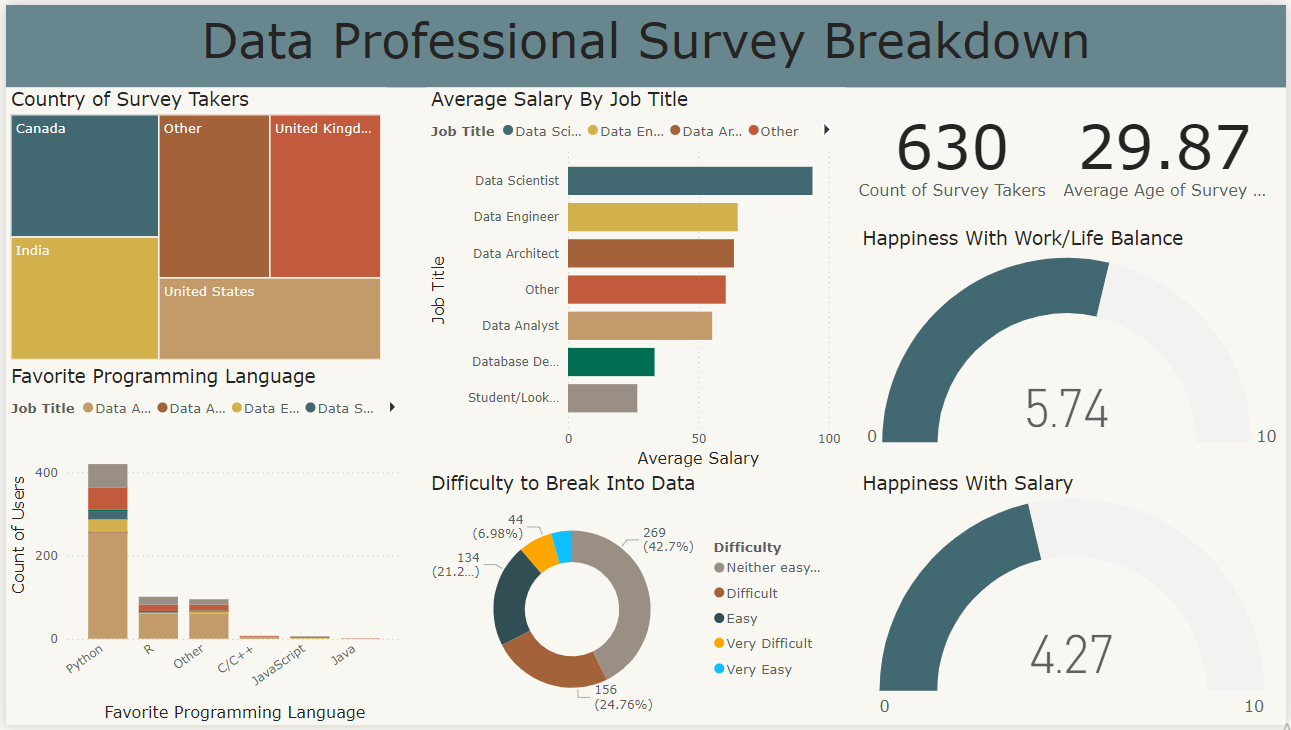

This screenshot's page, from the dashboard's own definition file:
{"tool":"powerbi","page":{"name":"Page 1","canvas":[1280,720],"ordinal":0},"visuals":[{"type":"textbox","box":[0,0,1280.3,82.3],"z":0},{"type":"card","fields":{"Values":["CountNonNull(Data Professional Survey.Unique ID)"]},"box":[839.8,93.3,212.7,108.4],"z":1},{"type":"card","fields":{"Values":["Avg(Data Professional Survey.Q10 - Current Age)"]},"box":[1052.5,93.3,212.7,108.4],"z":2},{"type":"barChart","title":"Average Salary By Job Title","fields":{"Category":["Data Professional Survey.Q1 - Which Title Best Fits your Current Role?.1"],"Y":["Avg(Data Professional Survey.Average Salary.1)"],"Series":["Data Professional Survey.Q1 - Which Title Best Fits your Current Role?.1"]},"box":[419.9,82.3,419.9,384.2],"z":3},{"type":"columnChart","title":"Favorite Programming Language","fields":{"Category":["Data Professional Survey.Q5 - Favorite Programming Language.1"],"Y":["CountNonNull(Data Professional Survey.Unique ID)"],"Series":["Data Professional Survey.Q1 - Which Title Best Fits your Current Role?.1"]},"box":[0,359.5,400.7,360.9],"z":4},{"type":"treemap","title":"Country of Survey Takers","fields":{"Group":["Data Professional Survey.Q11 - Which Country do you live in?.1"],"Values":["Count(Data Professional Survey.Q11 - Which Country do you live in?.1)"]},"box":[0,82.3,380.1,277.2],"z":5},{"type":"gauge","title":"Happiness With Work/Life Balance","fields":{"Y":["Avg(Data Professional Survey.Q6 - How Happy are you in your Current Position with the following? (Work/Life Balance))"],"MinValue":["Min(Data Professional Survey.Q6 - How Happy are you in your Current Position with the following? (Work/Life Balance))"],"MaxValue":["Max(Data Professional Survey.Q6 - How Happy are you in your Current Position with the following? (Work/Life Balance))1"]},"box":[850.8,220.9,429.5,230.5],"z":6},{"type":"gauge","title":"Happiness With Salary","fields":{"Y":["Avg(Data Professional Survey.Q6 - How Happy are you in your Current Position with the following? (Salary))"],"MinValue":["Min(Data Professional Survey.Q6 - How Happy are you in your Current Position with the following? (Salary))"],"MaxValue":["Max(Data Professional Survey.Q6 - How Happy are you in your Current Position with the following? (Salary))"]},"box":[850.8,466.6,429.5,253.9],"z":7},{"type":"donutChart","title":"Difficulty to Break Into Data","fields":{"Y":["CountNonNull(Data Professional Survey.Q7 - How difficult was it for you to break into Data?)"],"Category":["Data Professional Survey.Q7 - How difficult was it for you to break into Data?"]},"box":[419.9,466.6,414.4,253.9],"z":8}]}

Visuals, with their boxes in screenshot pixels (x1, y1, x2, y2), scaled from the page's 1280x720 canvas onto the 1291x730 screenshot:
textbox: <region>0, 0, 1290, 83</region>
card - CountNonNull(Data Professional Survey.Unique ID): <region>847, 95, 1062, 205</region>
card - Avg(Data Professional Survey.Q10 - Current Age): <region>1062, 95, 1276, 205</region>
"Average Salary By Job Title" barChart: <region>424, 83, 847, 473</region>
"Favorite Programming Language" columnChart: <region>0, 364, 404, 729</region>
"Country of Survey Takers" treemap: <region>0, 83, 383, 364</region>
"Happiness With Work/Life Balance" gauge: <region>858, 224, 1290, 458</region>
"Happiness With Salary" gauge: <region>858, 473, 1290, 729</region>
"Difficulty to Break Into Data" donutChart: <region>424, 473, 841, 729</region>
